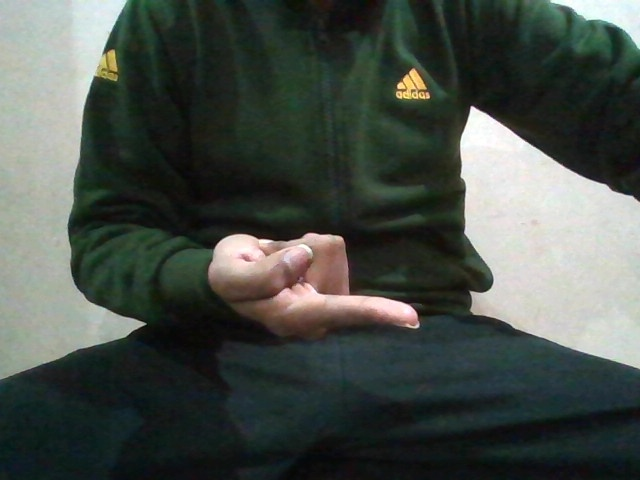X: (210, 226, 432, 343)
